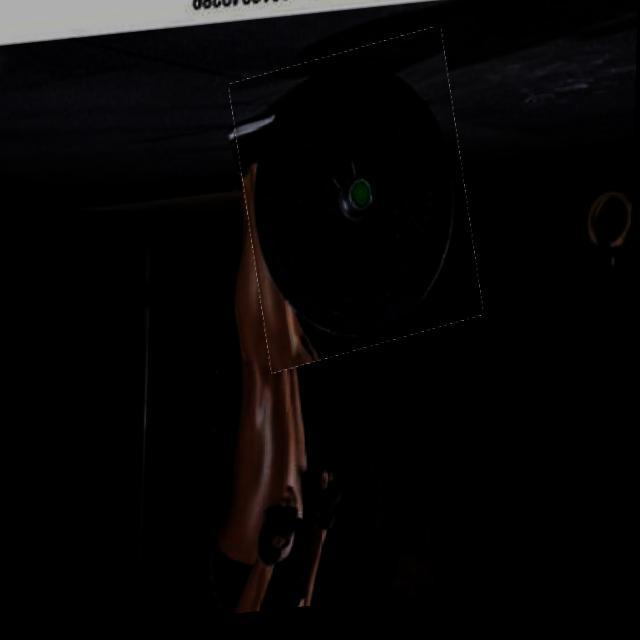barbell: (236, 42, 481, 376)
